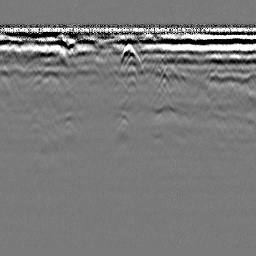cavity: (118, 42, 144, 70)
